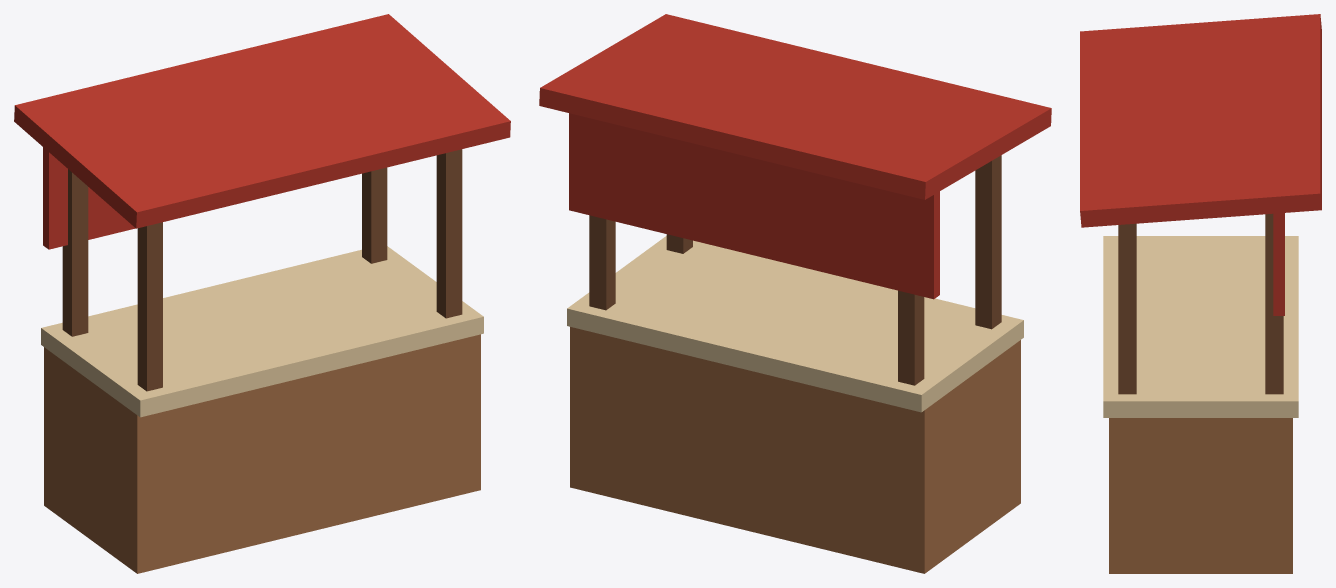
File: stall-red.glb
The picture shows the model from 3 angles, left to right: view 1: azimuth 30°, elevation 25°; view 2: azimuth 150°, elevation 25°; view 3: azimuth 270°, elevation 25°; orthographic projection. The views are drawn at different scales.
Bounding box in the file's own units: 1.85 × 1.86 × 1.05.
